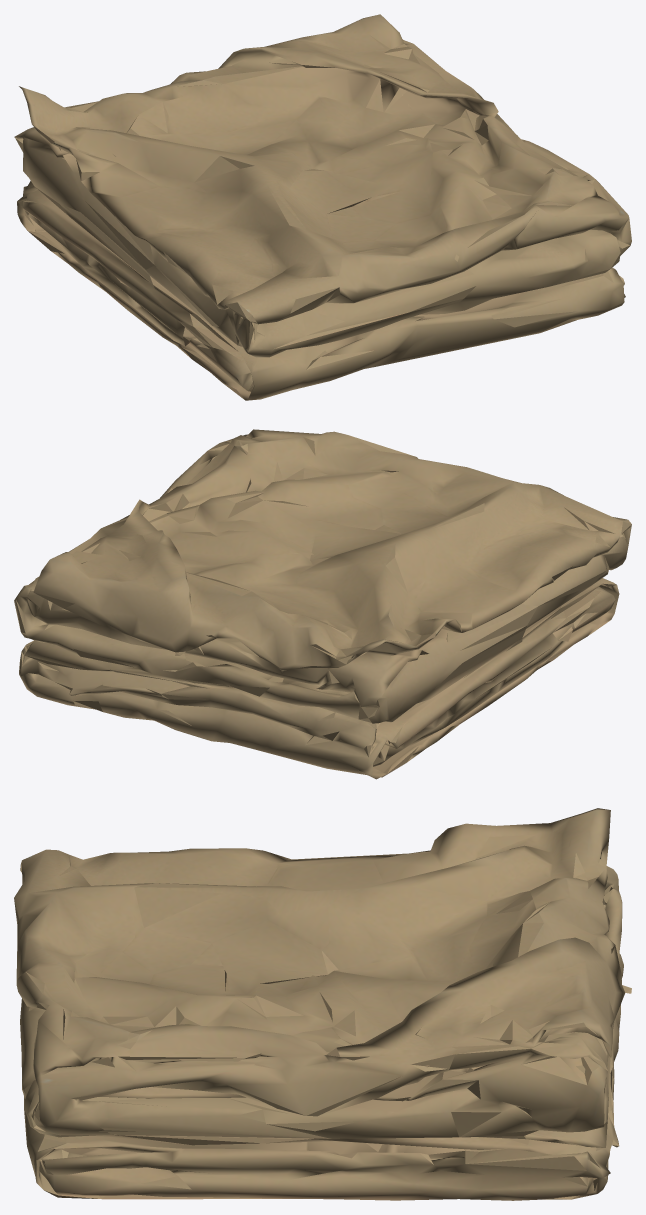
The model's file is fabric.glb.
3 views of the same model, one above another, from view 1: azimuth 30°, elevation 25°; view 2: azimuth 150°, elevation 25°; view 3: azimuth 270°, elevation 25° (orthographic). The views are drawn at different scales.
Parts seen in each view (by area): view 1: mesh_node; view 2: mesh_node; view 3: mesh_node.
Boxes of the visible parts, x1,y1,x2,y2 form: mesh_node: (14, 14, 631, 400); mesh_node: (14, 429, 631, 779); mesh_node: (14, 808, 631, 1200).
Bounding box in the file's own units: 0.5775 × 0.2 × 0.6385.
Materials: 1 (1 with a texture image).
